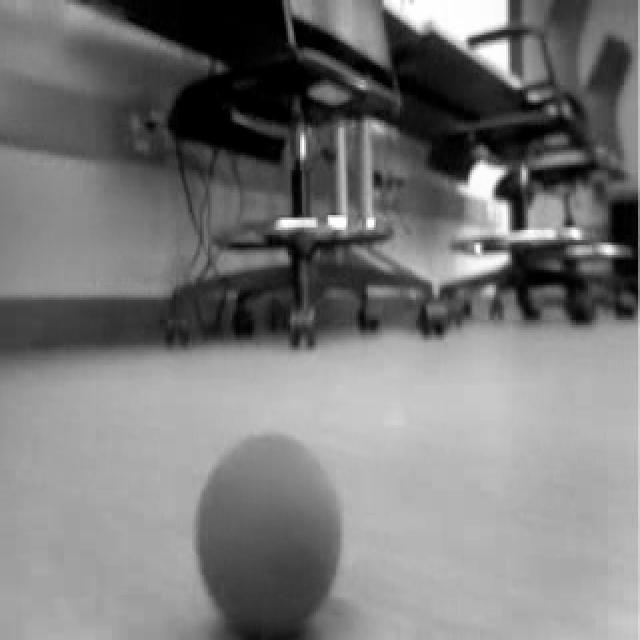ping-pong-ball: (190, 426, 354, 640)
